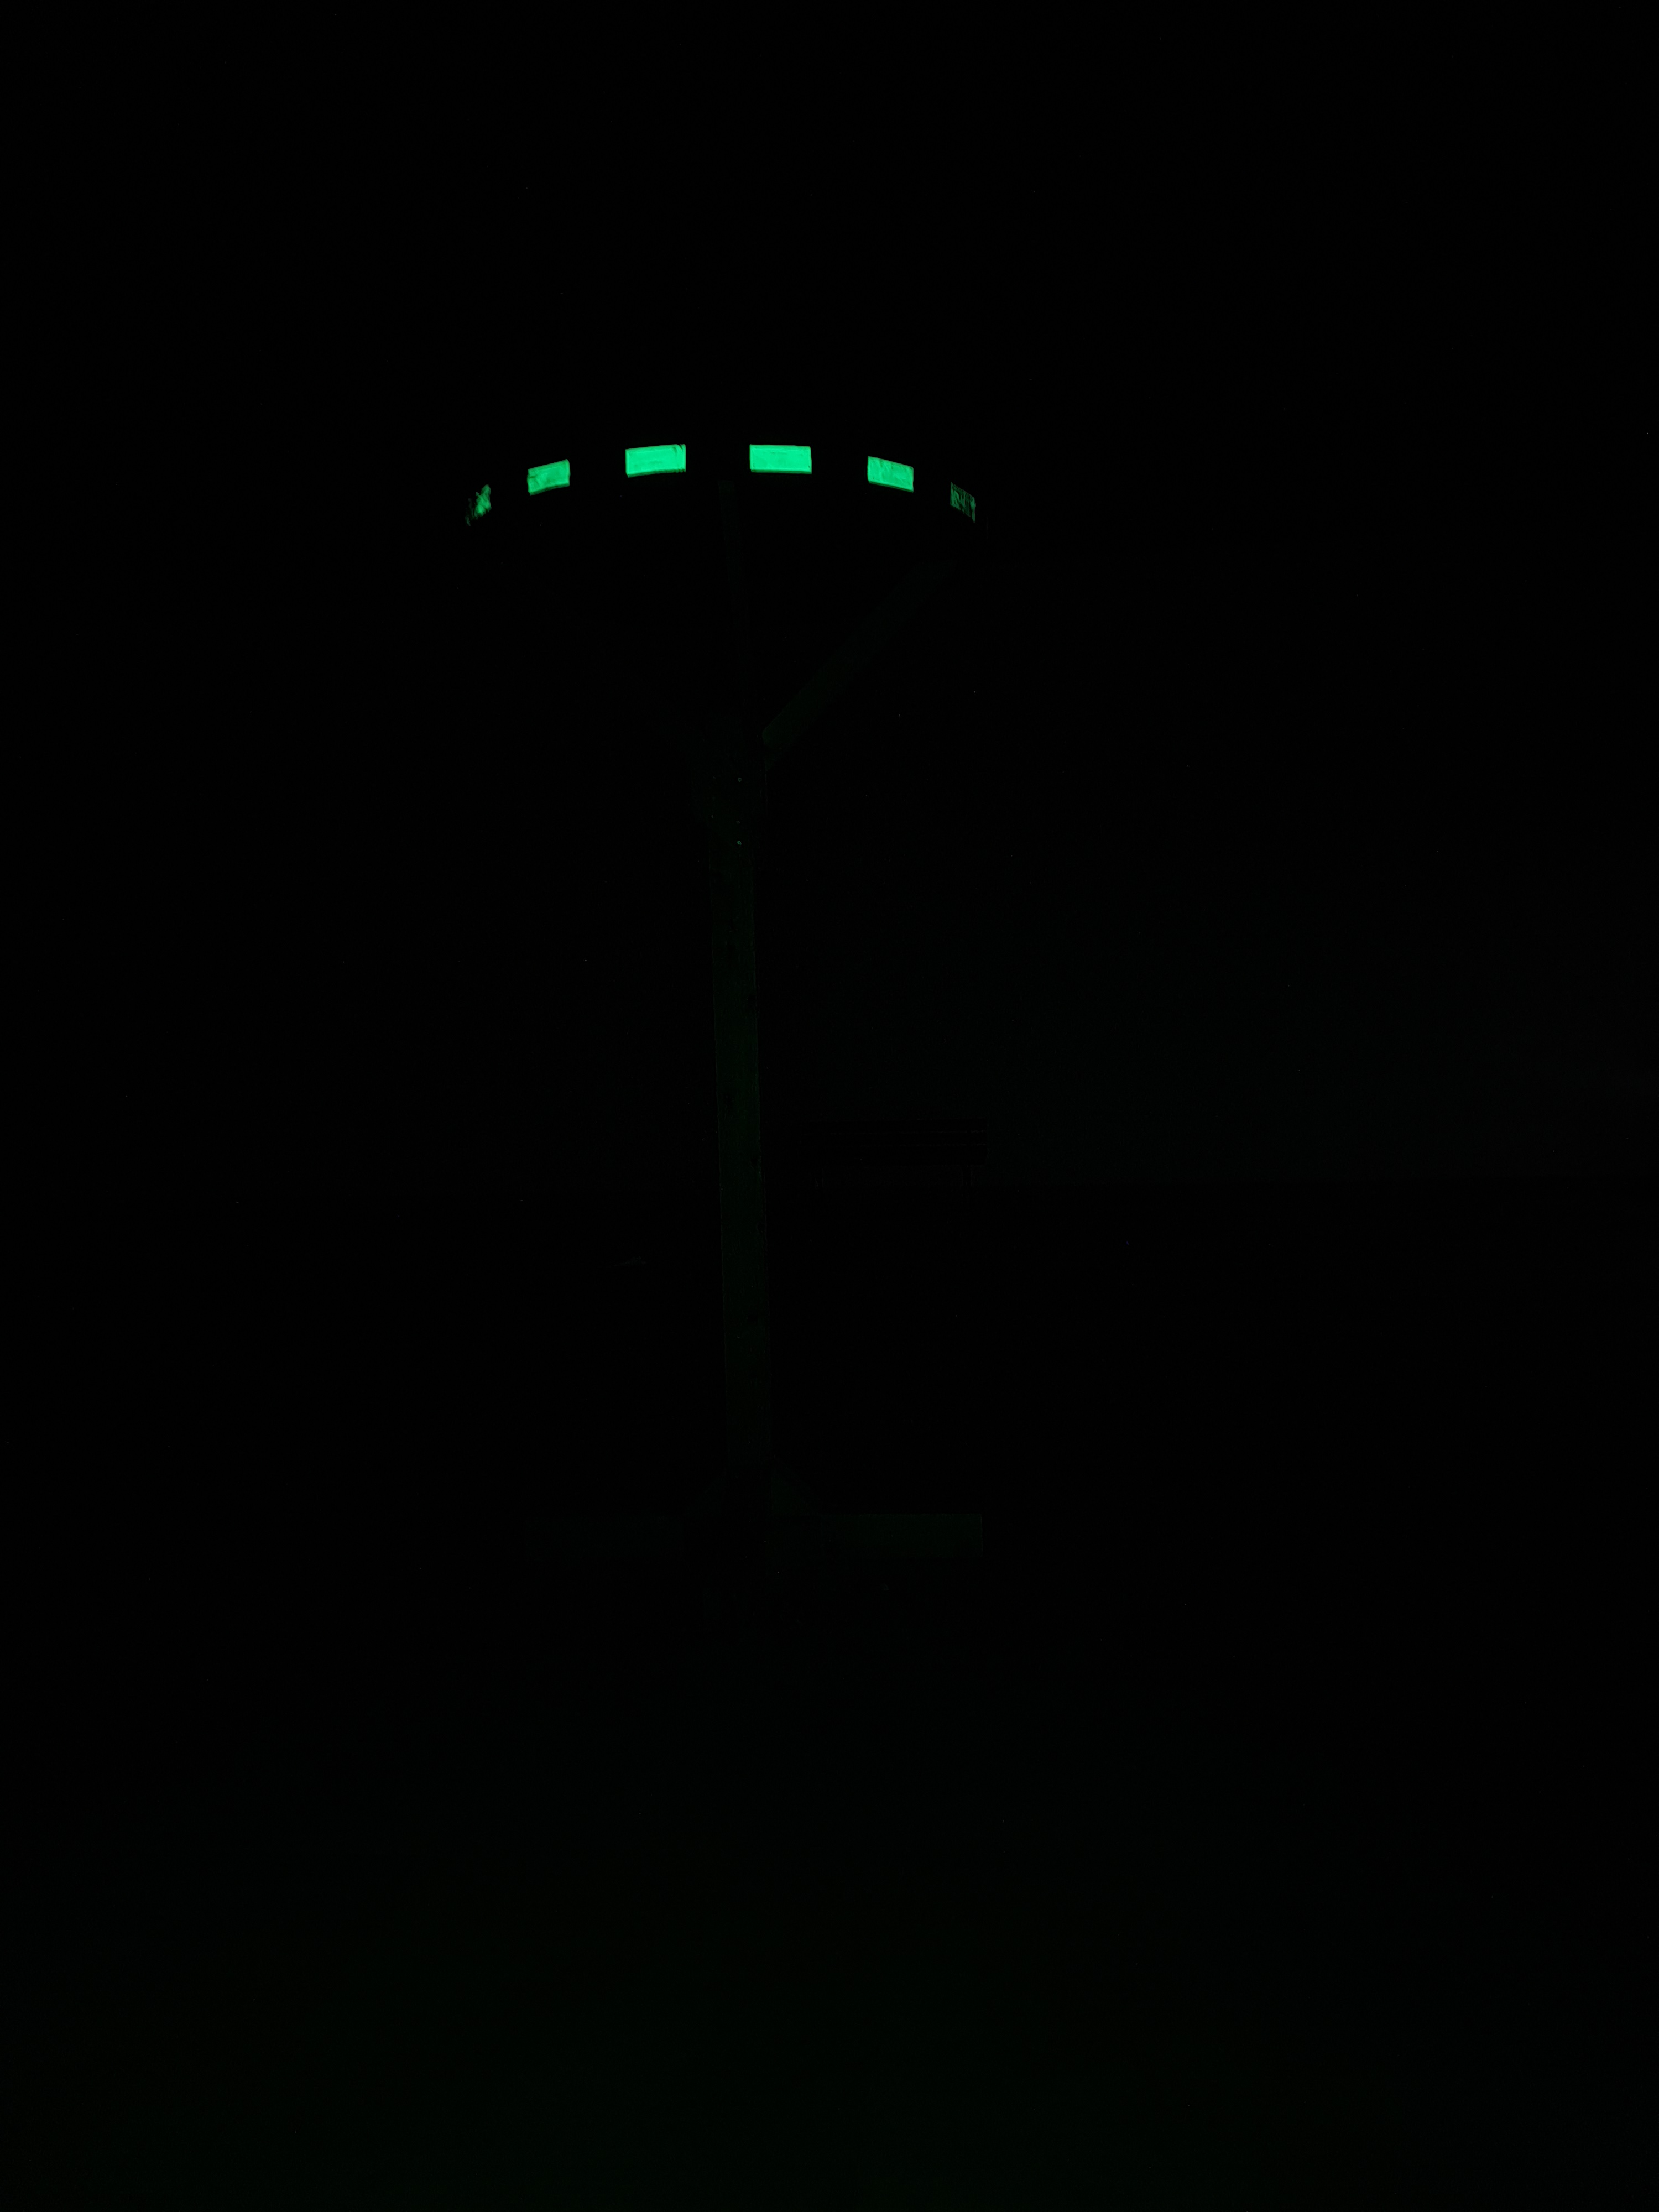hoop: (451, 432, 985, 542)
